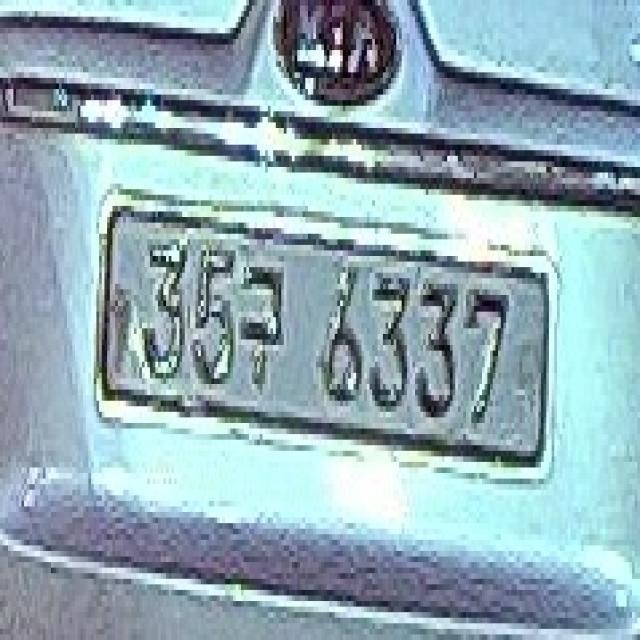3: (142, 239, 190, 390), (367, 261, 410, 412), (415, 273, 458, 423)
5: (192, 250, 235, 390)
6: (322, 250, 364, 412)
7: (466, 284, 511, 428)
gu: (238, 256, 286, 390)
license_plate: (94, 195, 557, 473)
